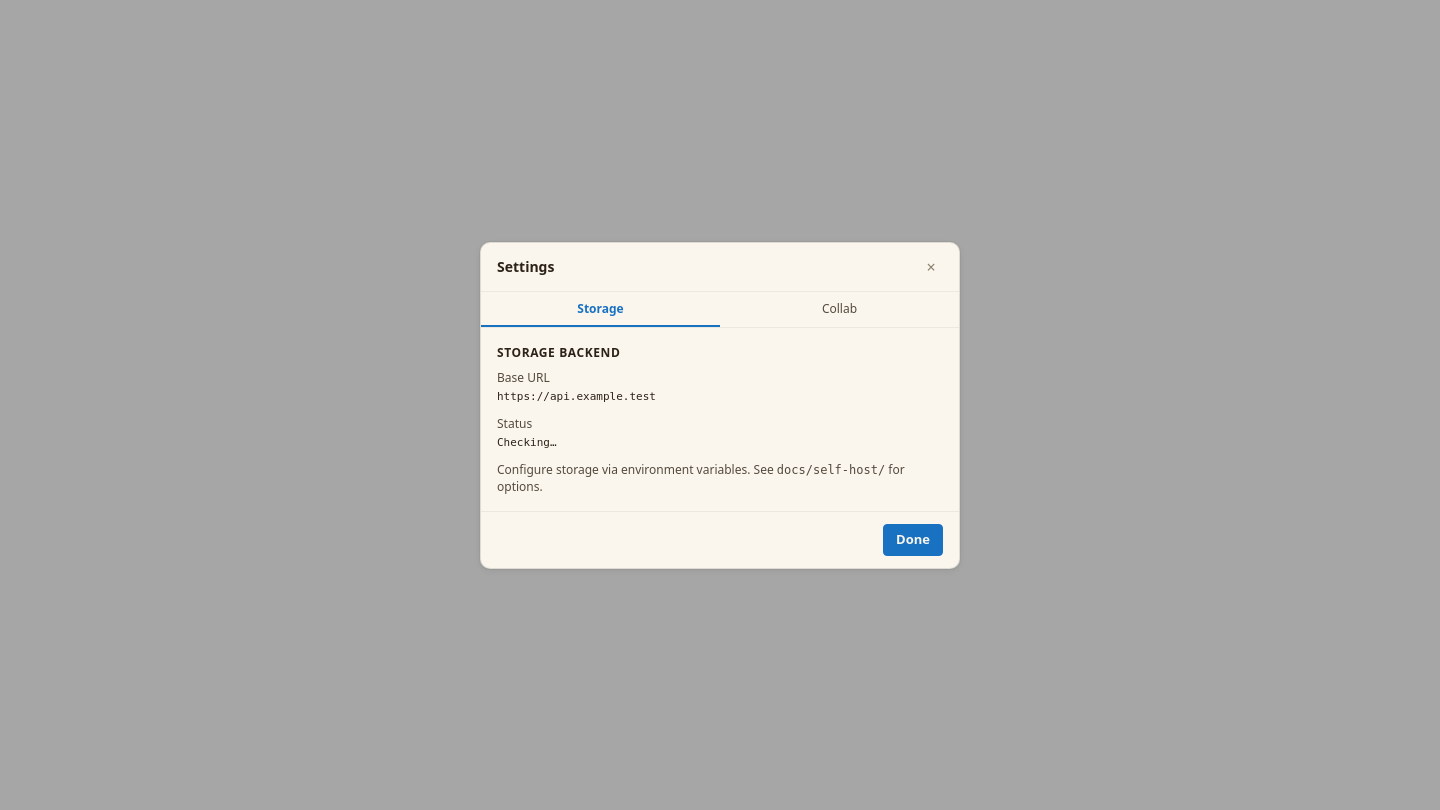
Test case: SettingsDialog — StorageTab › reports Unreachable — not a fake Connected — when the health check fails
This screenshot has width=1440, height=810.
What coordinates should you click on to do the following:
click the button with test id "settings-tab-storage"
I would click on:
 (600, 309)
Its box is [481,292,720,326].
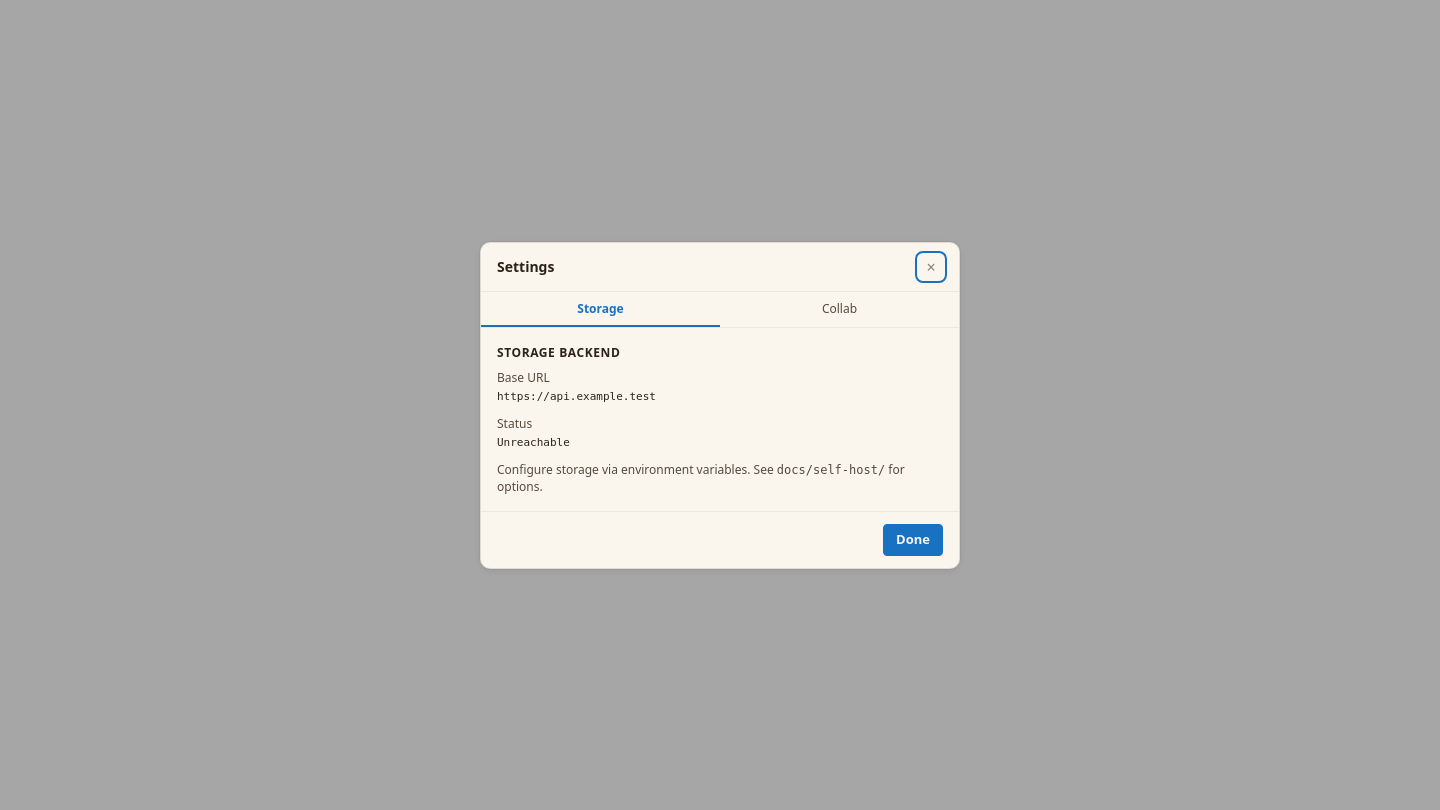
Expected: the text "Unreachable" is shown, [497,436,570,448]
